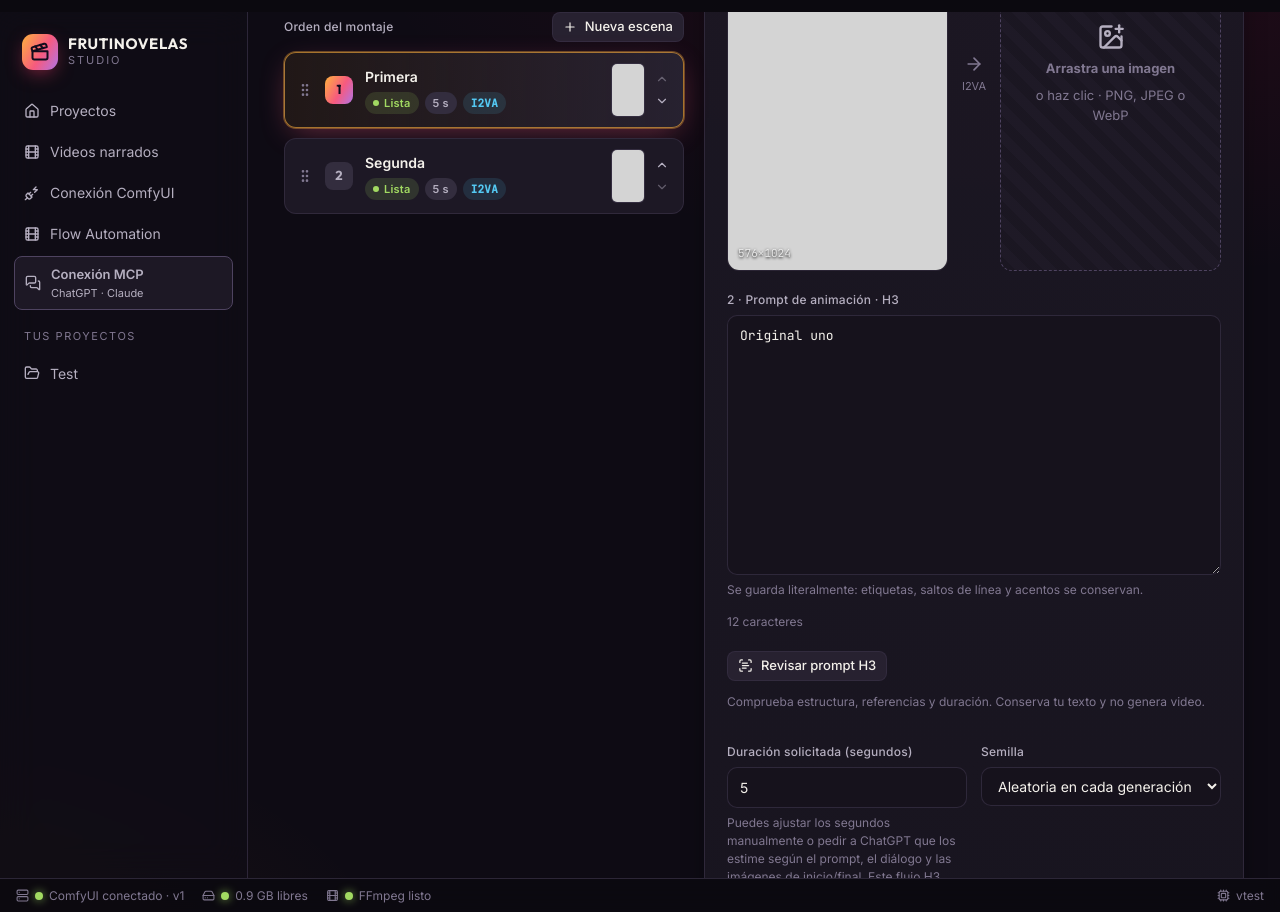
Test: reordering retains the implicitly selected scene and its literal draft
(page scrolled)
Replace the text in the text box showing "Original uno" with "Borrador literal á <d>sí</d>". click: (974, 445)
box: [727,315,1221,575]
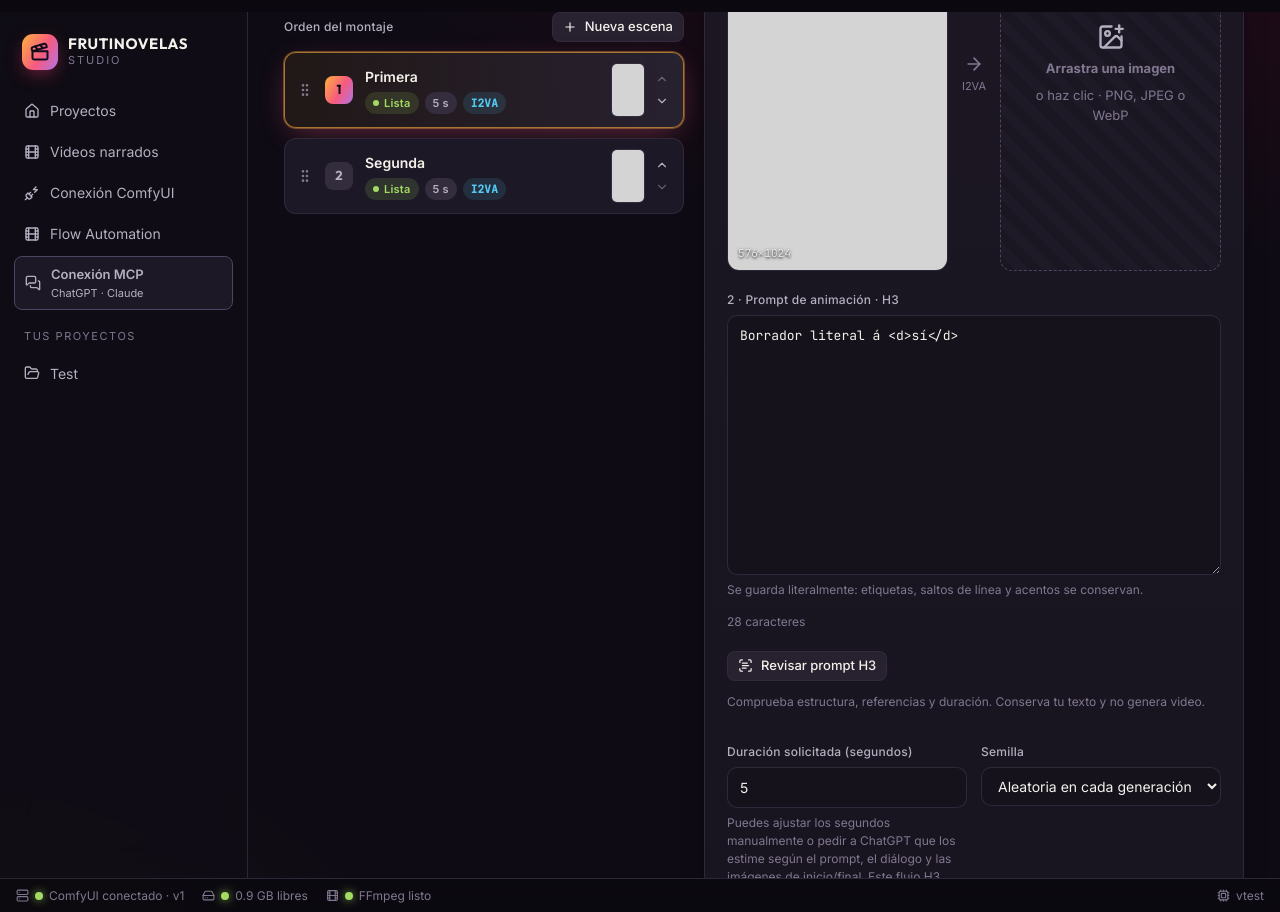
Click the button named "Bajar escena" below "Primera". click: (662, 101)
box: [651,90,673,112]
(page scrolled)
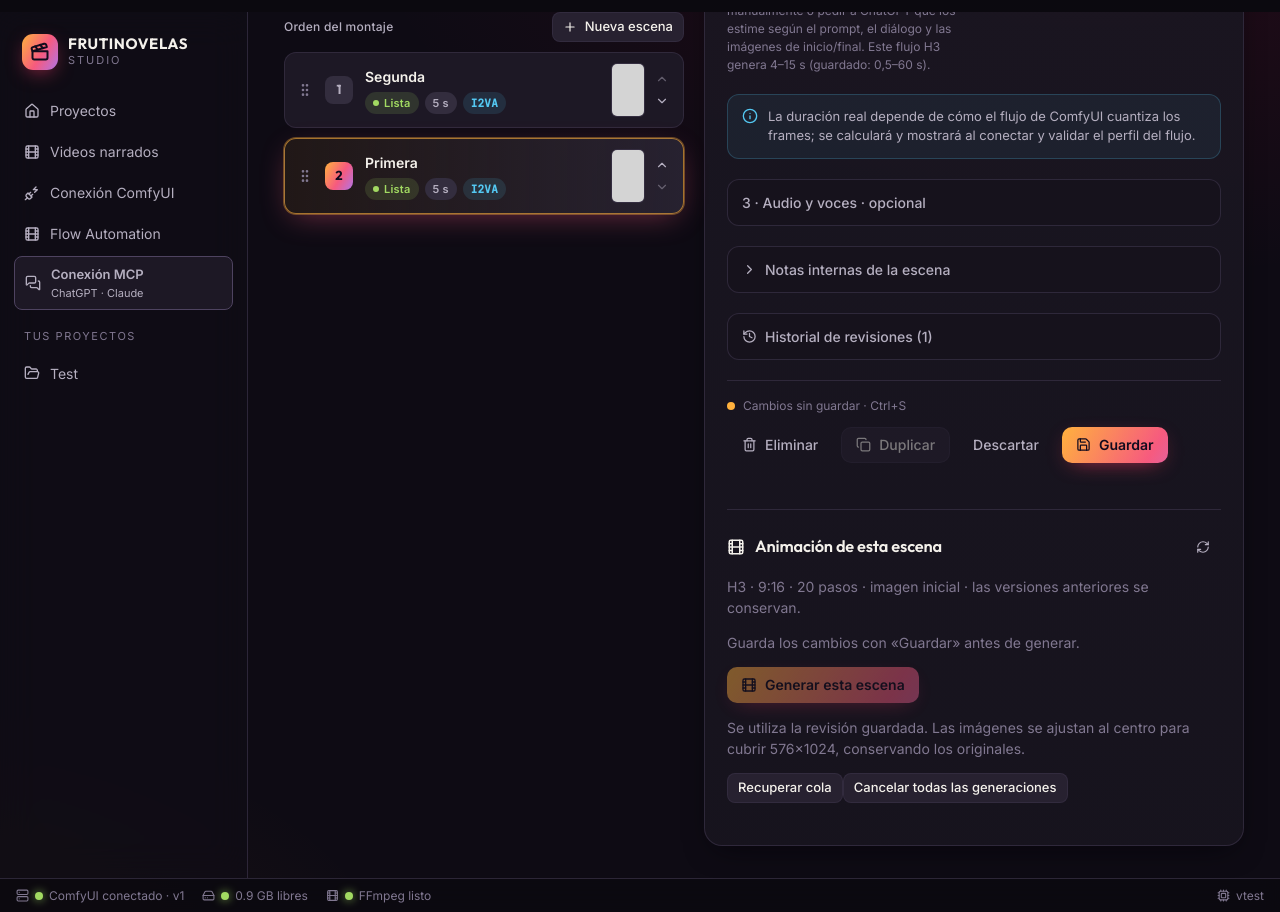
Expected: the button "Duplicar" is disabled, [841,427,950,463]
